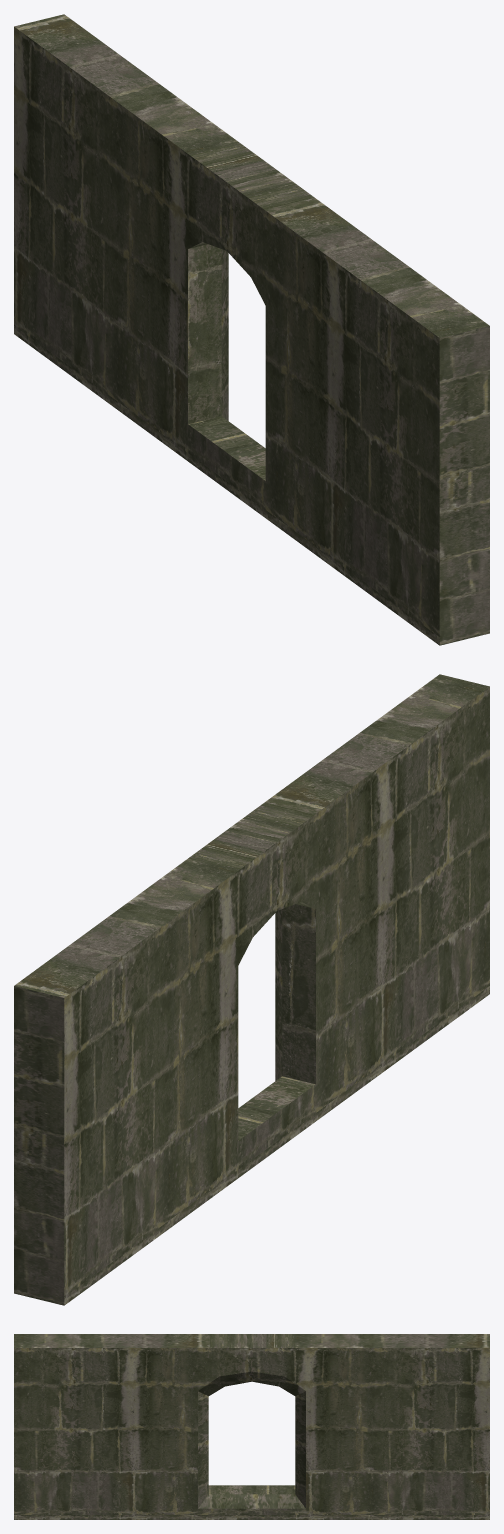
File: HorizontalHalfWall_Window.fbx
3 views of the same model, one above another, from view 1: azimuth 30°, elevation 25°; view 2: azimuth 150°, elevation 25°; view 3: azimuth 270°, elevation 25° (orthographic). The views are drawn at different scales.
Parts seen in each view (by area): view 1: HorizontalHalfWall_Window; view 2: HorizontalHalfWall_Window; view 3: HorizontalHalfWall_Window.
Boxes of the visible parts, x1=… form: HorizontalHalfWall_Window: x1=14, y1=14, x2=489, y2=645; HorizontalHalfWall_Window: x1=14, y1=674, x2=489, y2=1305; HorizontalHalfWall_Window: x1=14, y1=1334, x2=489, y2=1519.
Size of the model in its own units: 51 by 298 by 748.
